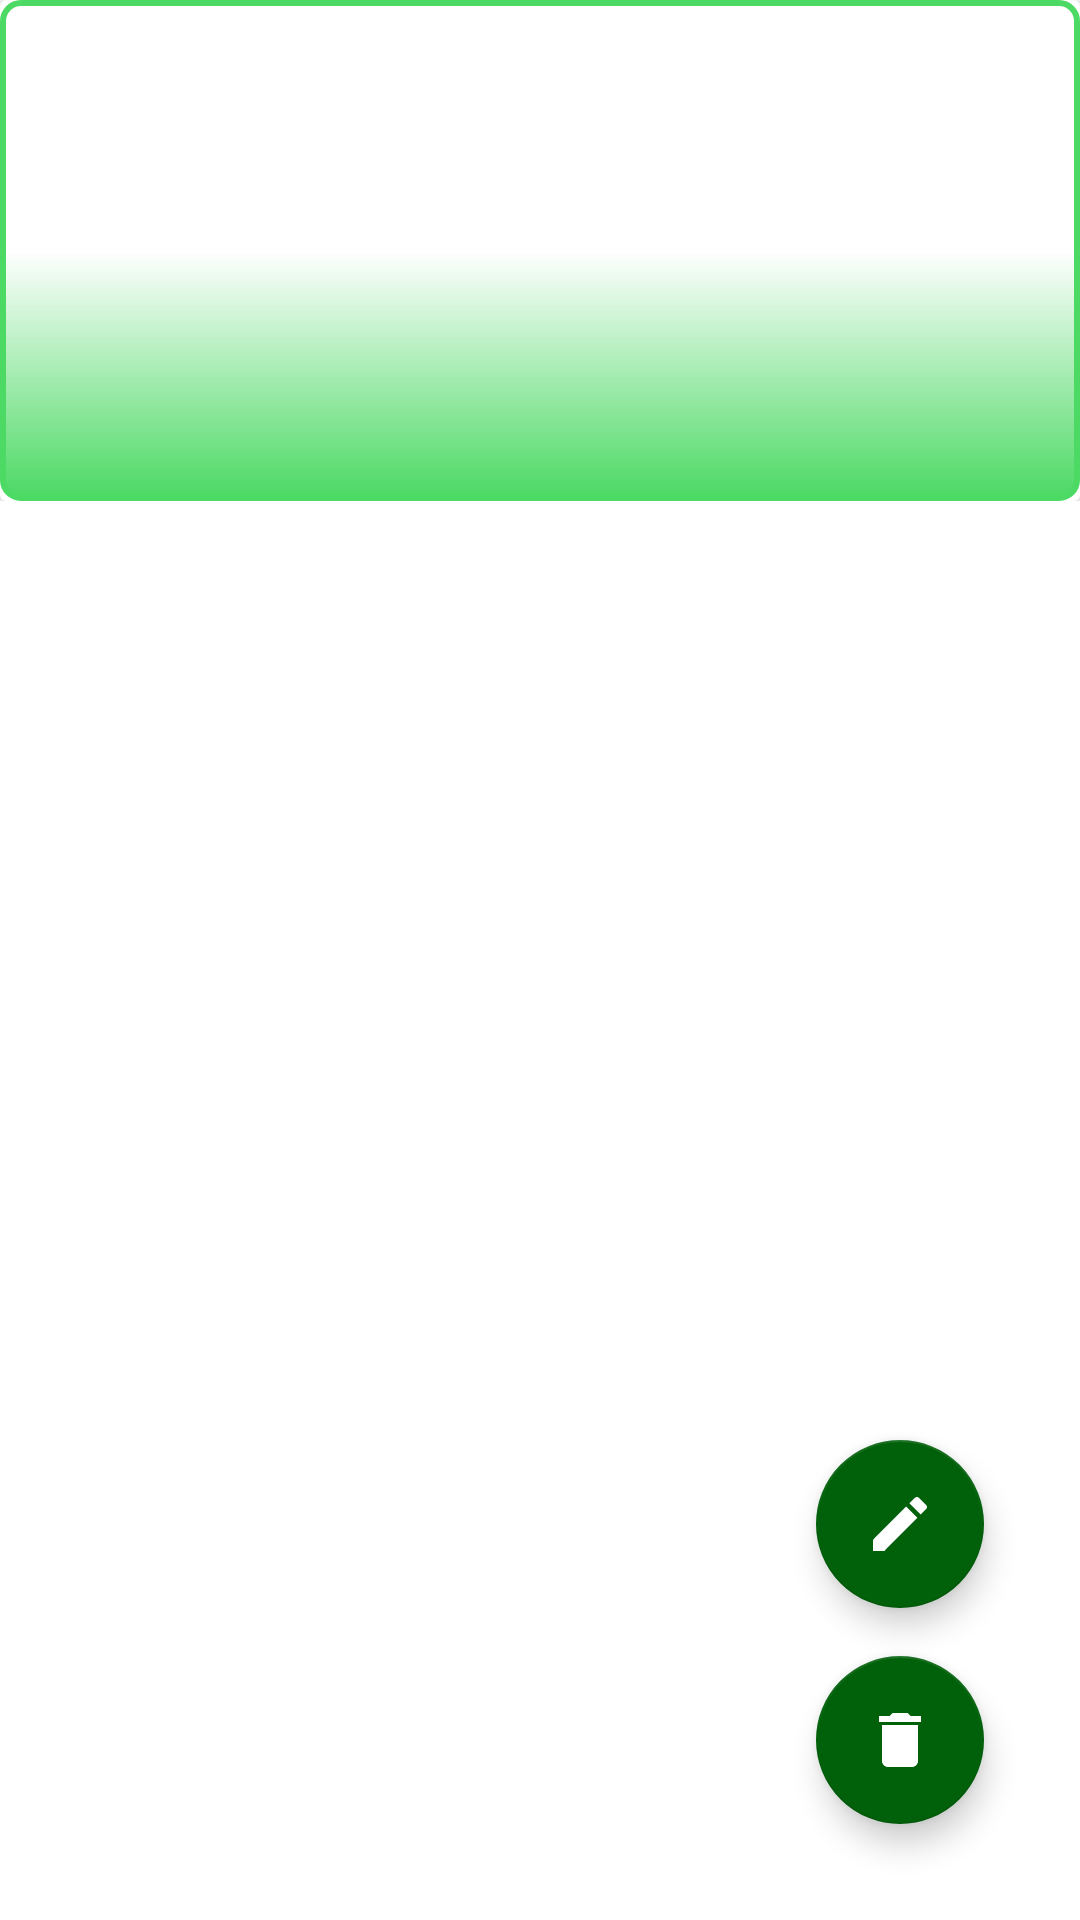

Screen size 1080px×1920px. Icon name, then its box in pixels as (x1, y1, x2, y2):
delete: (816, 1656, 984, 1824)
edit: (816, 1440, 984, 1608)
